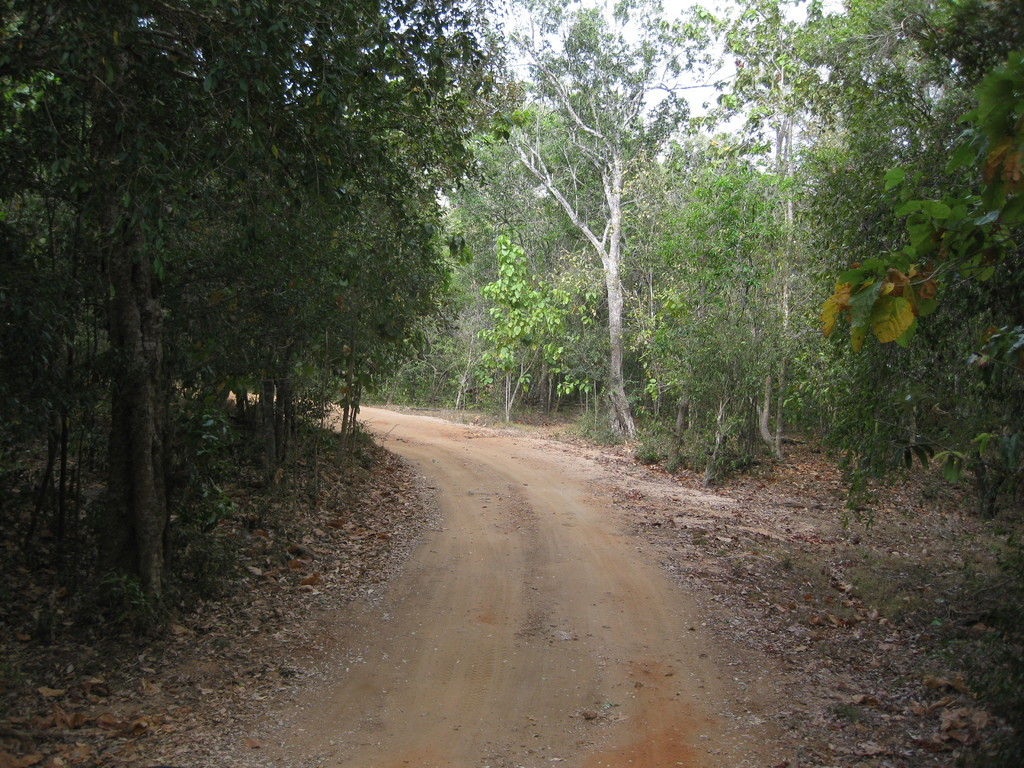Tree: (513, 0, 1023, 739), (0, 0, 529, 627)
